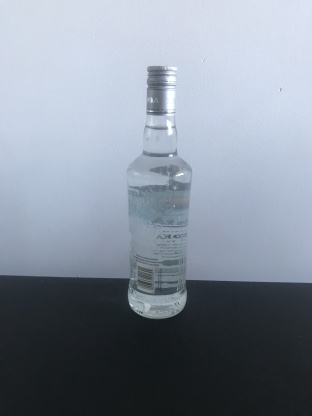nakretka: (145, 63, 178, 117)
